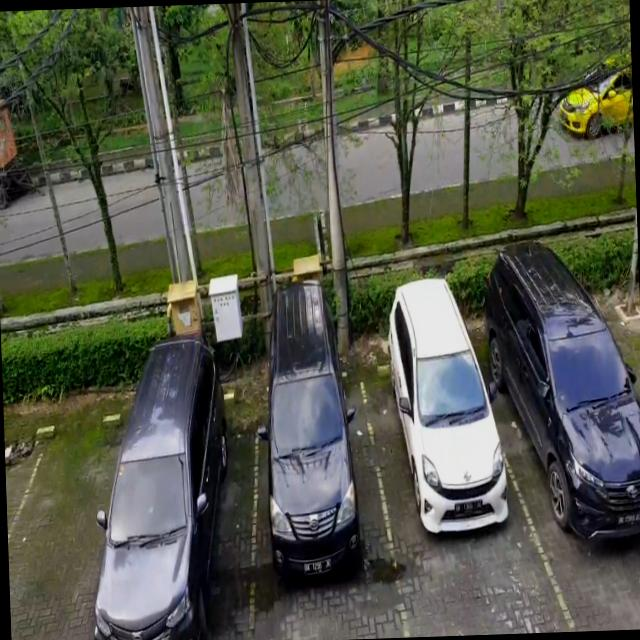car: (372, 318, 524, 622), (500, 287, 640, 615), (86, 396, 256, 640), (245, 347, 388, 634)
free: (3, 419, 101, 640)
